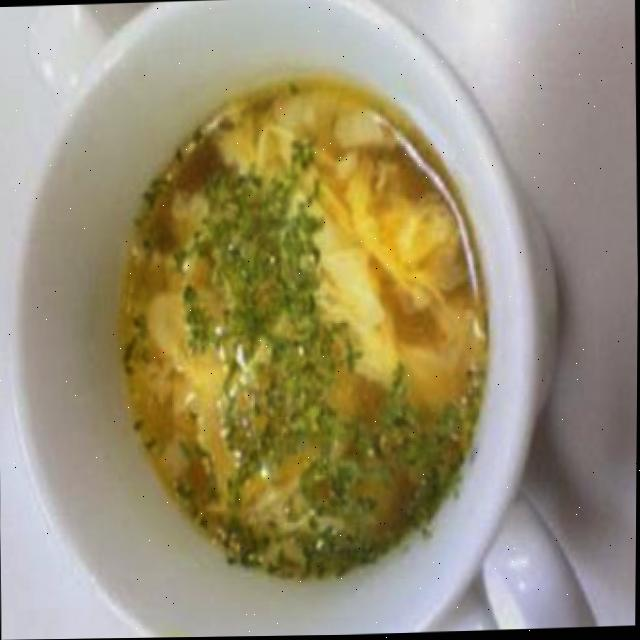汤锅炖物: (24, 0, 531, 640)
